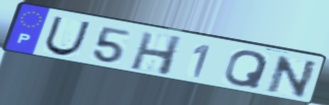1: (191, 45, 212, 79)
5: (92, 26, 135, 65)
H: (128, 31, 185, 78)
N: (265, 54, 321, 100)
Q: (222, 49, 271, 91)
U: (42, 15, 93, 57)
